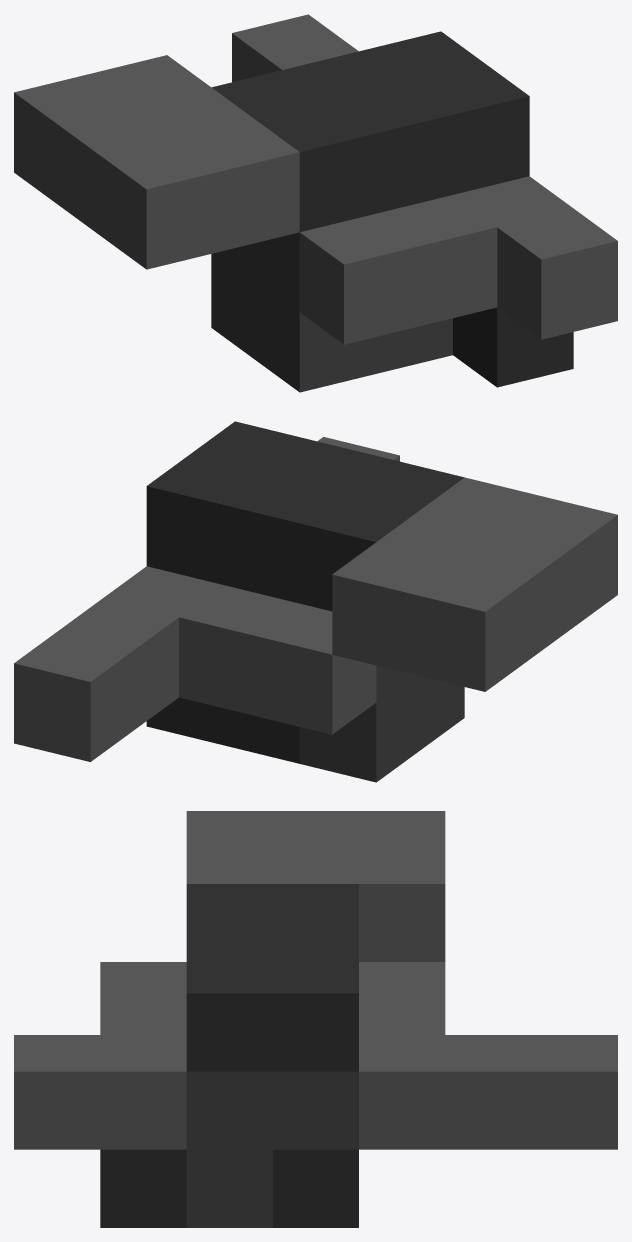
File: Wing-29-MicroRecon_Wing1_R.obj
The picture shows the model from 3 angles, top to bottom: view 1: azimuth 30°, elevation 25°; view 2: azimuth 150°, elevation 25°; view 3: azimuth 270°, elevation 25°; orthographic projection. The views are drawn at different scales.
Visible parts, largest first — view 1: MicroRecon_Wing1_R; view 2: MicroRecon_Wing1_R; view 3: MicroRecon_Wing1_R.
Part boxes in pixels (x1,y1,x2,y2): MicroRecon_Wing1_R: (14, 14, 617, 392); MicroRecon_Wing1_R: (14, 421, 617, 782); MicroRecon_Wing1_R: (14, 811, 617, 1227).
Bounding box in the file's own units: 0.5 × 0.3 × 0.7.
Materials: 1 (1 with a texture image).
